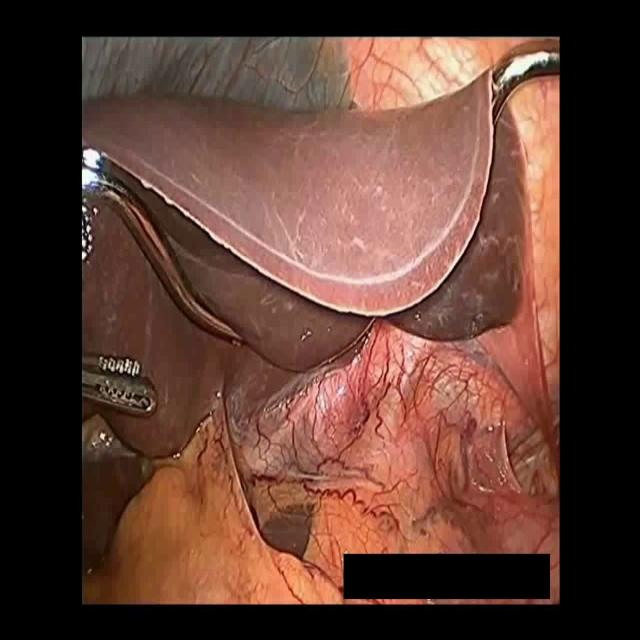surgical-area: (80, 36, 560, 606)
surgical-tool: (492, 35, 560, 126), (80, 356, 157, 417)
